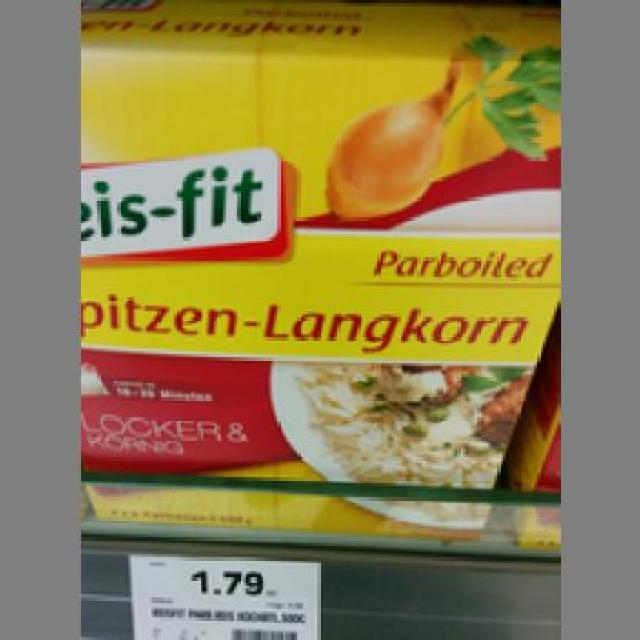Rice: (77, 0, 557, 537)
